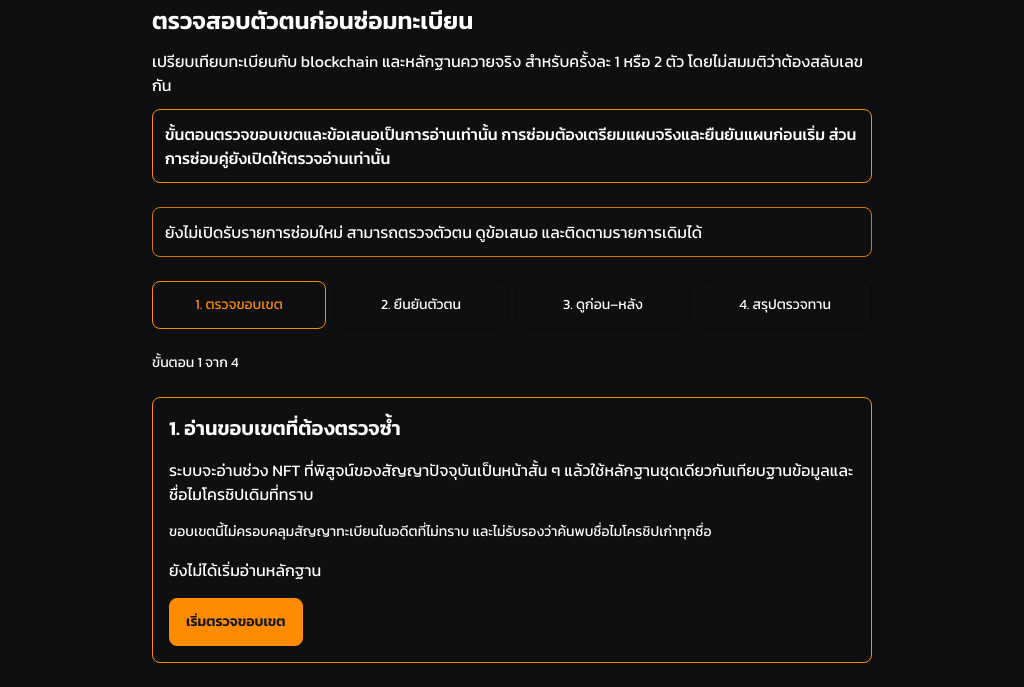
Scenario: entry query prepopulates source only, never the desired chip or NFT
Click the button "เริ่มตรวจขอบเขต" at (236, 622), box [169,598,303,646]
(page scrolled)
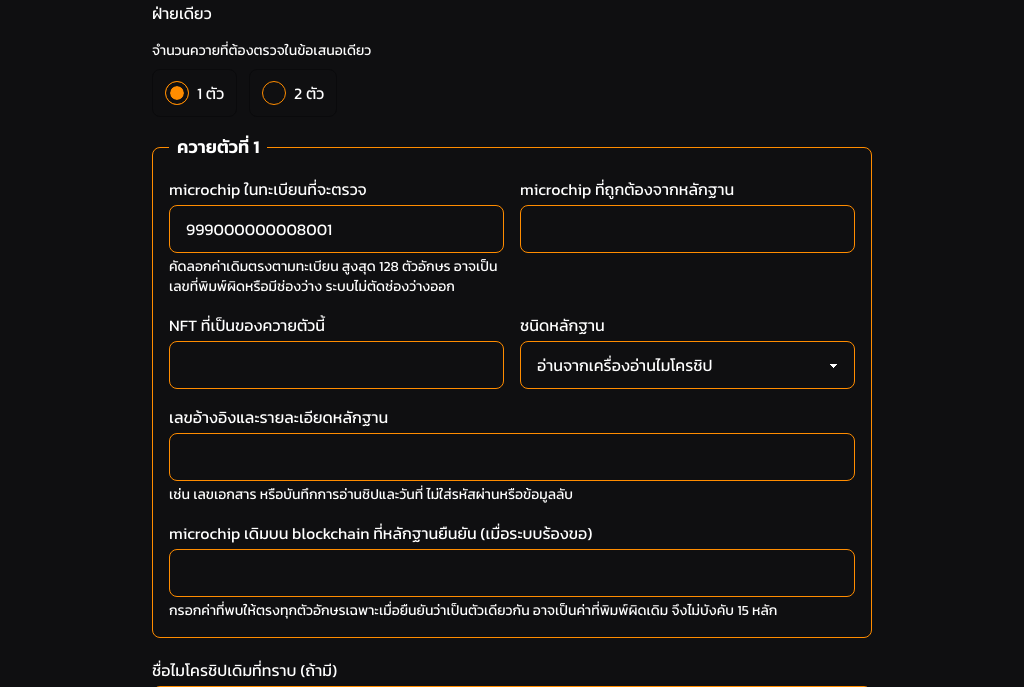
Check: the field with id "repair-source-0" holds "999000000008001", box [169,205,504,253]
Check: the field with id "repair-chip-0" is empty, box [520,205,855,253]
Check: the field with id "repair-token-0" is empty, box [169,341,504,389]
